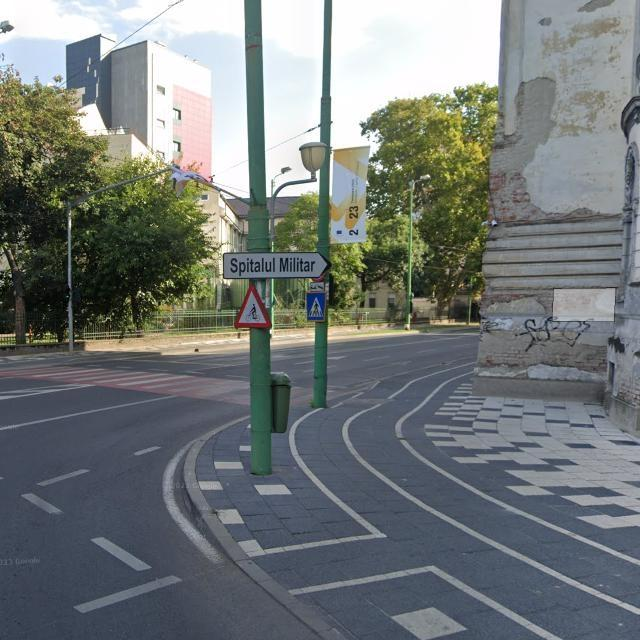info_crosswalk: (305, 292, 325, 323)
